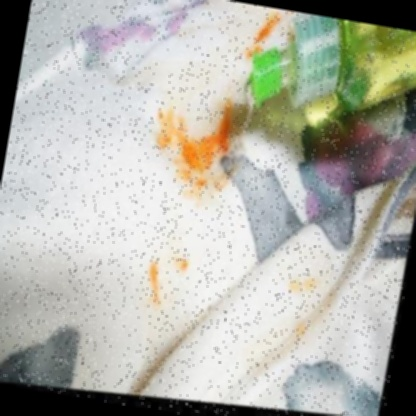kimchi: (140, 112, 239, 201), (134, 257, 174, 318), (254, 11, 282, 47), (210, 99, 238, 131), (291, 271, 320, 296), (174, 257, 193, 278), (243, 45, 255, 58), (298, 323, 308, 338)
